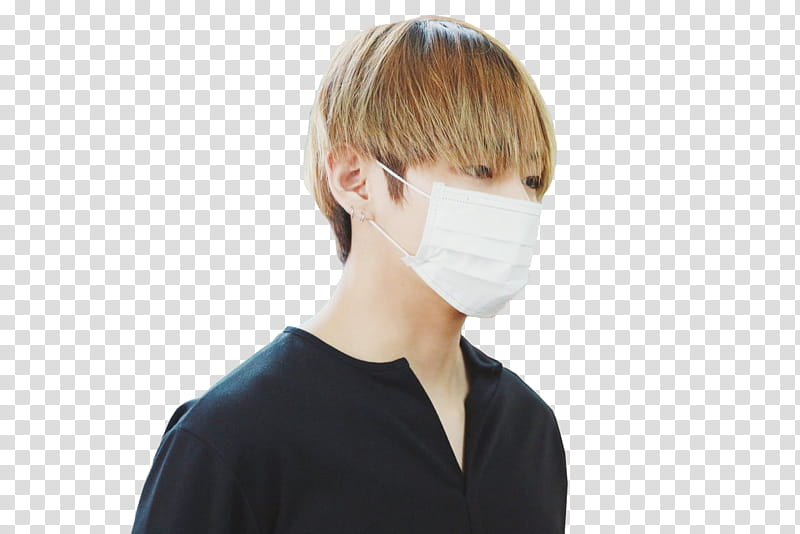mask: (408, 176, 544, 311)
